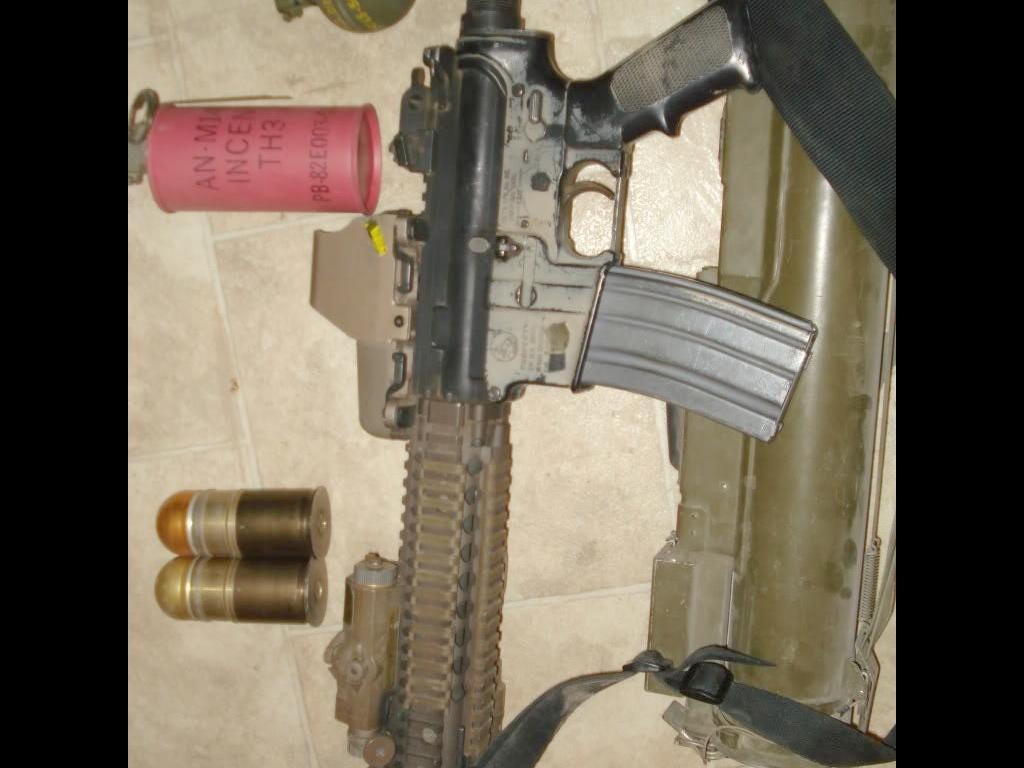gun: (340, 0, 815, 768)
